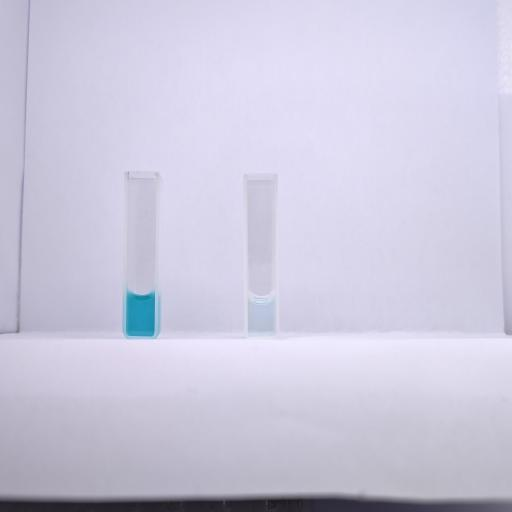cuvette: (121, 168, 162, 340), (242, 171, 280, 341)
liquid: (126, 292, 155, 336), (248, 295, 274, 335)
